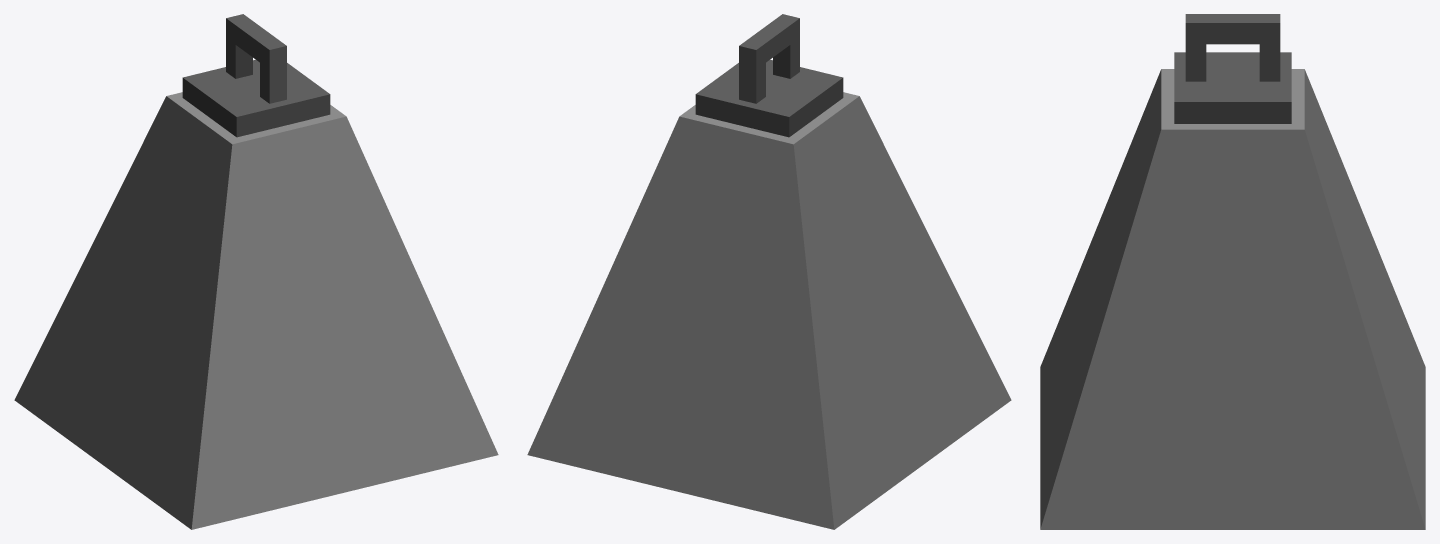
The model's file is SM_Prop_Tank_Stop_01.fbx.
The picture shows the model from 3 angles, left to right: view 1: azimuth 30°, elevation 25°; view 2: azimuth 150°, elevation 25°; view 3: azimuth 270°, elevation 25°; orthographic projection. The views are drawn at different scales.
Parts seen in each view (by area): view 1: SM_Prop_Tank_Stop_01; view 2: SM_Prop_Tank_Stop_01; view 3: SM_Prop_Tank_Stop_01.
Part boxes in pixels (x1,y1,x2,y2): SM_Prop_Tank_Stop_01: (14, 14, 498, 529); SM_Prop_Tank_Stop_01: (527, 14, 1011, 529); SM_Prop_Tank_Stop_01: (1040, 14, 1425, 529).
Size of the model in its own units: 1.73 by 2.13 by 1.73.
